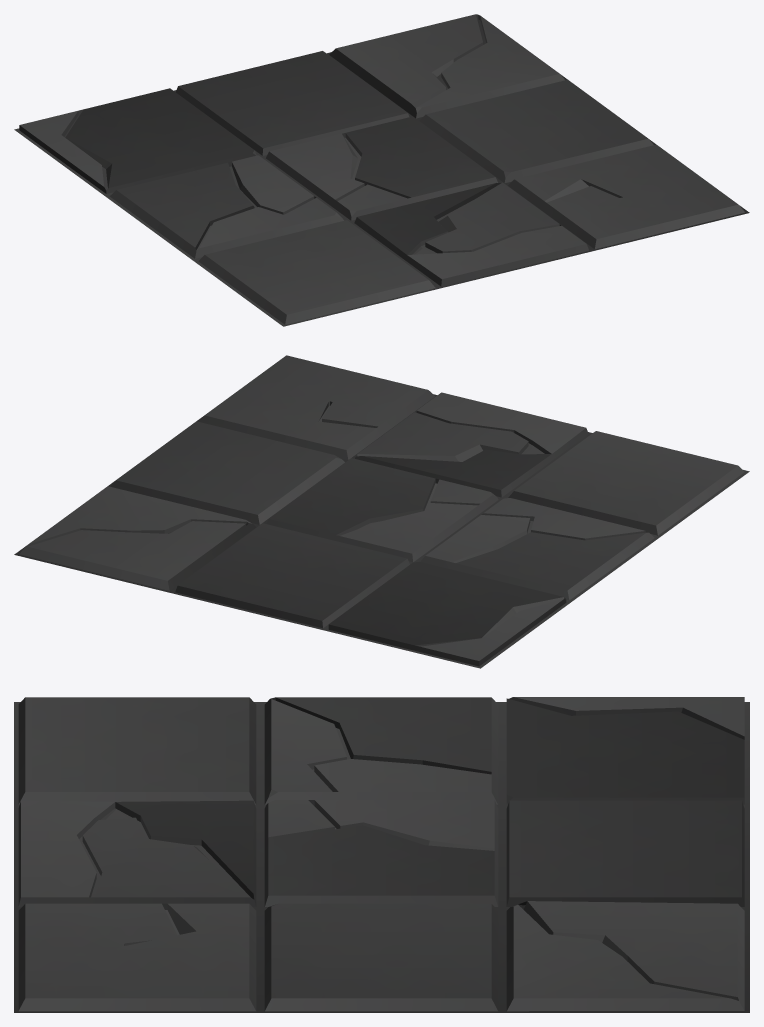
The model's file is Floor_02.fbx.
3 views of the same model, one above another, from view 1: azimuth 30°, elevation 25°; view 2: azimuth 150°, elevation 25°; view 3: azimuth 270°, elevation 25° (orthographic). The views are drawn at different scales.
Parts seen in each view (by area): view 1: Floor_02; view 2: Floor_02; view 3: Floor_02.
Boxes of the visible parts, x1,y1,x2,y2 form: Floor_02: (14,14,749,326); Floor_02: (14,355,749,668); Floor_02: (14,697,749,1012).
Size of the model in its own units: 280 by 5.76 by 280.
